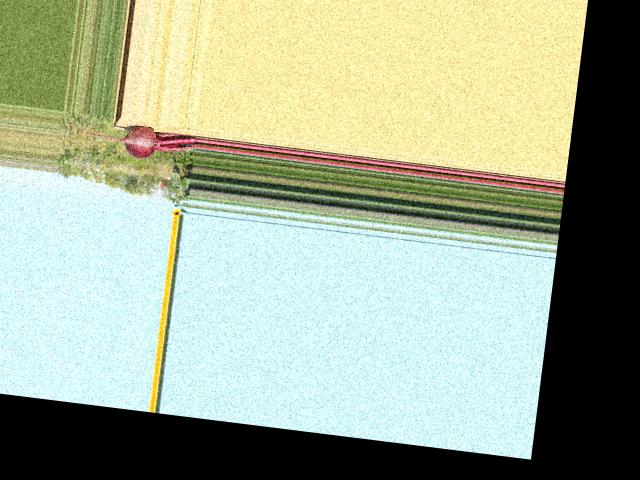beet: (63, 116, 198, 164)
